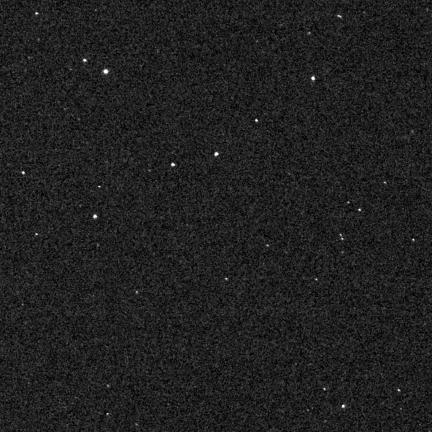blob: (103, 69, 109, 75), (22, 171, 26, 176), (35, 12, 40, 16), (93, 214, 97, 218), (255, 119, 259, 123), (311, 77, 315, 80), (98, 186, 102, 189), (83, 59, 87, 62), (215, 152, 218, 156), (136, 291, 139, 295), (358, 209, 362, 212), (398, 389, 401, 393), (315, 278, 319, 281), (171, 163, 175, 166), (107, 385, 110, 389), (36, 233, 39, 236), (412, 239, 415, 242)
